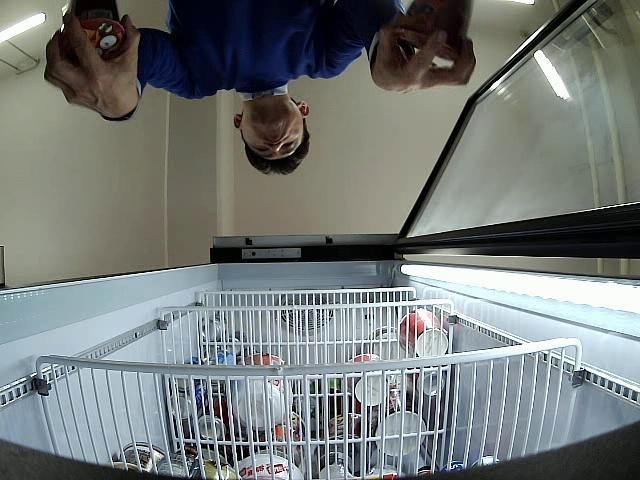06_nuguri_S: (398, 0, 476, 61), (61, 0, 128, 59)
